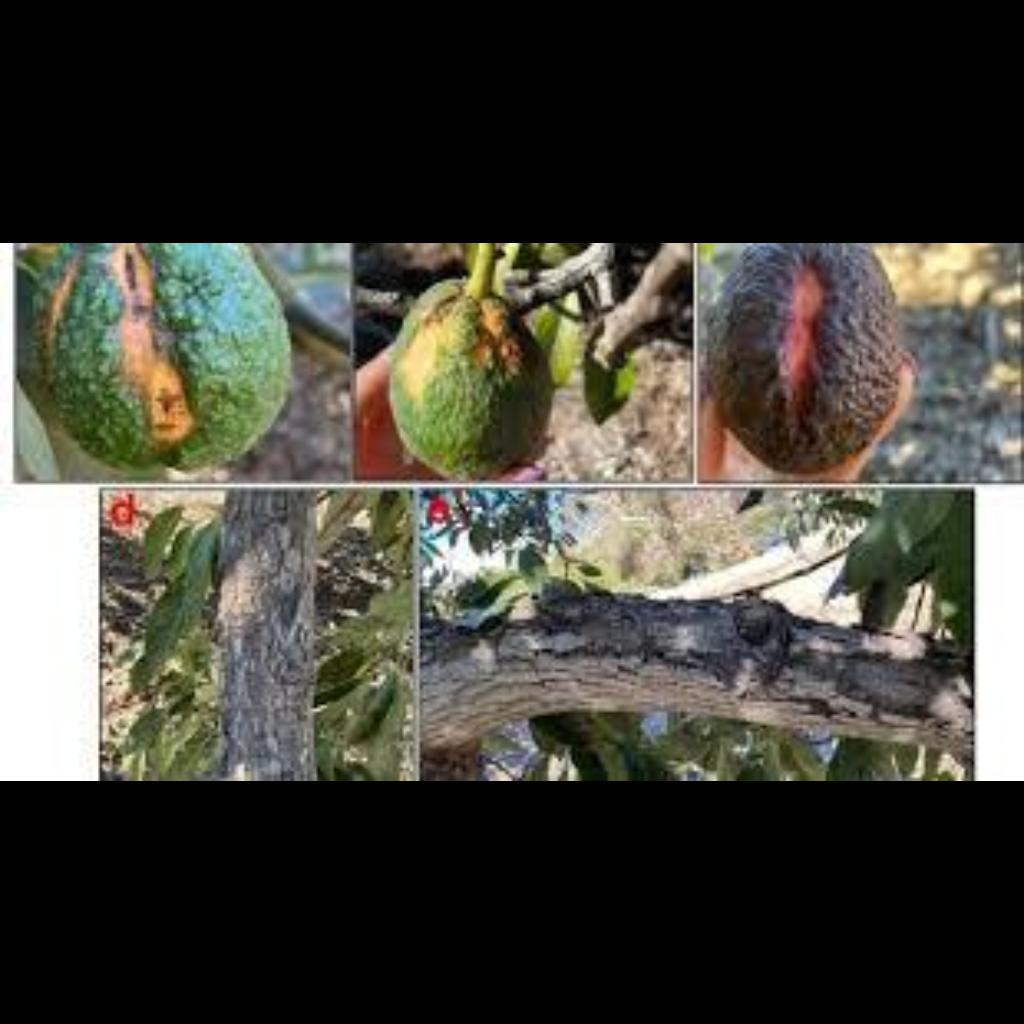antracnosis_fruto: (387, 297, 585, 479)
cercospora: (436, 550, 972, 758)
pudricion_peduncular: (709, 281, 917, 443)
sunblotch: (24, 265, 310, 450)
